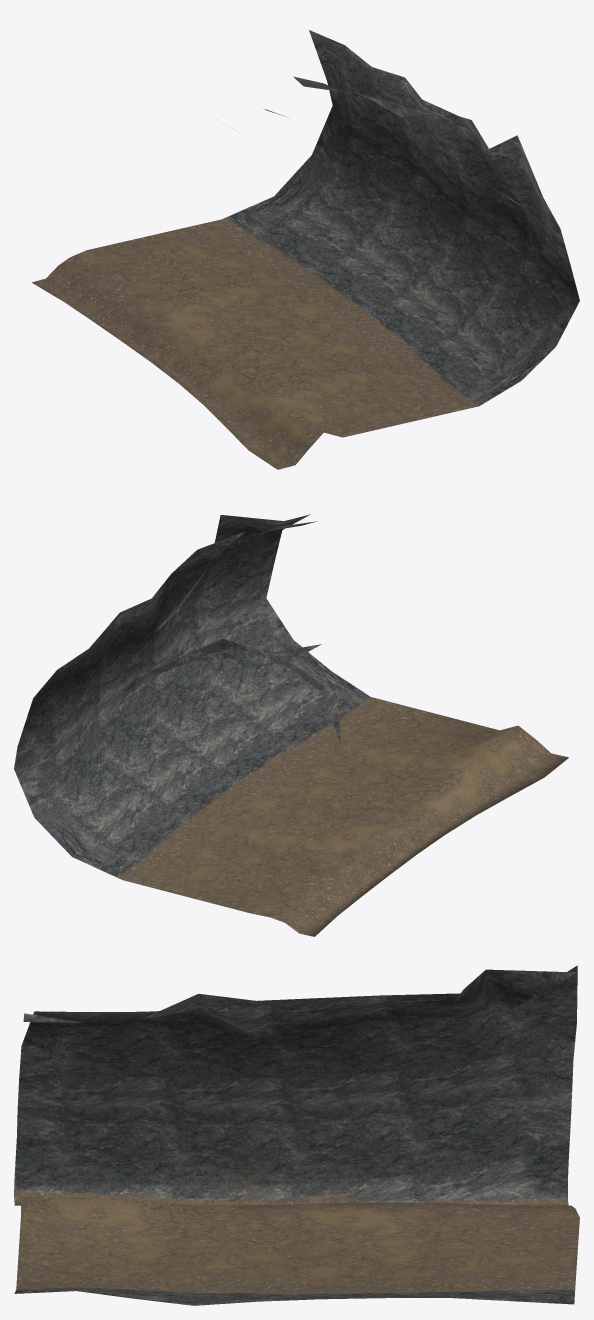
File: TunnelA9.glb
The picture shows the model from 3 angles, top to bottom: view 1: azimuth 30°, elevation 25°; view 2: azimuth 150°, elevation 25°; view 3: azimuth 270°, elevation 25°; orthographic projection. The views are drawn at different scales.
Visible parts, largest first — view 1: TunnelA9; view 2: TunnelA9; view 3: TunnelA9.
Part boxes in pixels (box(x1,y1,x2,y2)): TunnelA9: box(32, 30, 579, 469); TunnelA9: box(14, 514, 568, 936); TunnelA9: box(14, 965, 579, 1305).
Bounding box in the file's own units: 4.27 × 2.87 × 5.82.
Materials: 1 (1 with a texture image).
